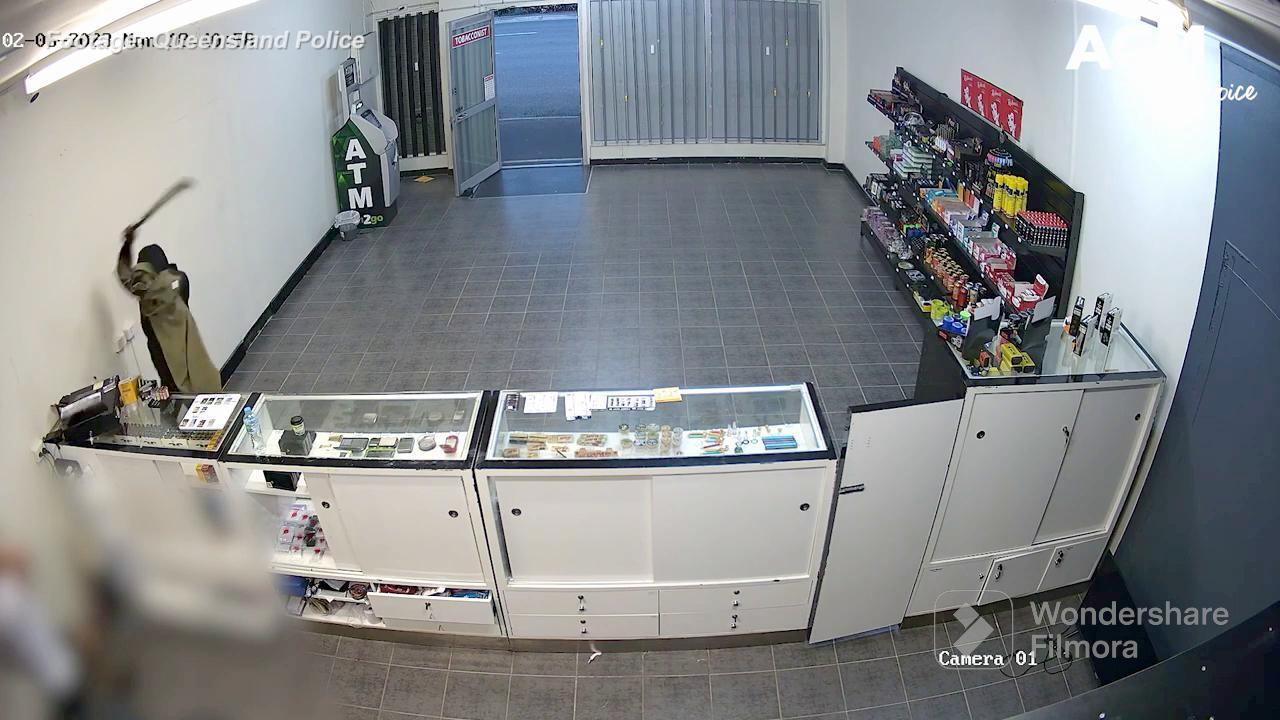melee: (123, 174, 195, 245)
